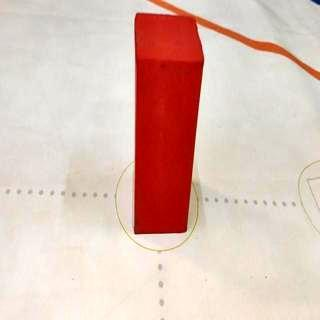redbox: (133, 11, 205, 232)
